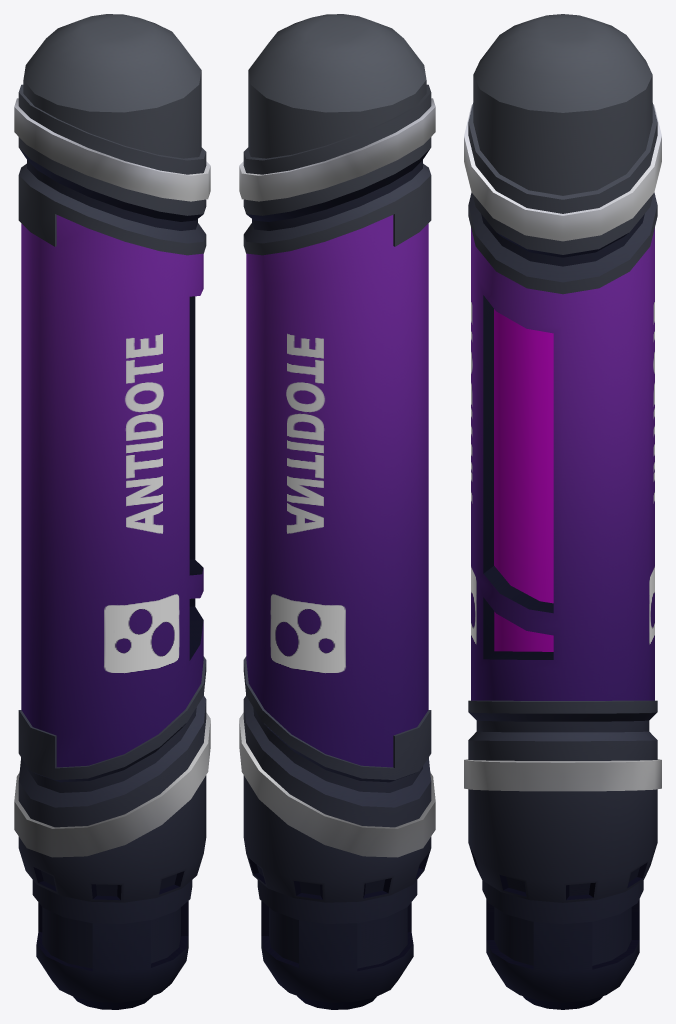
The model's file is Antidote.fbx.
The picture shows the model from 3 angles, left to right: view 1: azimuth 30°, elevation 25°; view 2: azimuth 150°, elevation 25°; view 3: azimuth 270°, elevation 25°; orthographic projection.
Visible parts, largest first — view 1: ANTIDOTE; view 2: ANTIDOTE; view 3: ANTIDOTE.
Part boxes in pixels (box(x1,y1,x2,y2)): ANTIDOTE: box(14, 14, 210, 1009); ANTIDOTE: box(239, 14, 435, 1009); ANTIDOTE: box(464, 14, 661, 1009).
Size of the model in its own units: 205 by 1103 by 205.
Materials: 1 (1 with a texture image).
